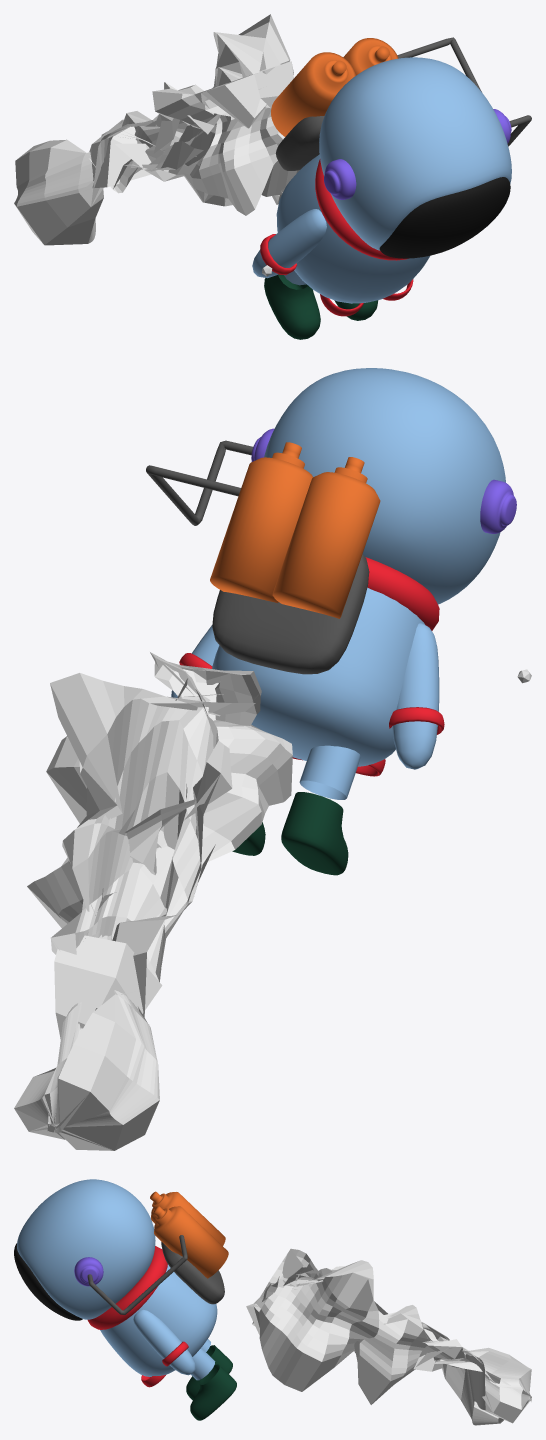
File: AstroBoy-SmokeTrail4.glb
3 renders of one model, top to bottom at view 1: azimuth 30°, elevation 25°; view 2: azimuth 150°, elevation 25°; view 3: azimuth 270°, elevation 25°, orthographic. The views are drawn at different scales.
Visible parts, largest first — view 1: Cube.009, Cube, Cube.002, Cube.001, Cylinder, Cube.003, Cube.005, Cube.008, Torus.001, Cylinder.001, NurbsPath, Cube.004 (+1 smaller); view 2: Cube.009, Cube, Cylinder, Cube.002, Cube.008, Cube.005, Cube.003, Cube.007, NurbsPath, Torus.001, Cylinder.001, Cube.006; view 3: Cube.009, Cube, Cube.002, Cylinder, Cube.003, Cube.005, Torus.001, Cube.008, Cube.001, NurbsPath, Cylinder.001, Cube.007.
Boxes of the visible parts, x1,y1,x2,y2 form: Cube.009: (14,14,299,245); Cube: (319,57,511,250); Cube.002: (276,154,429,303); Cube.001: (379,177,510,258); Cylinder: (271,38,398,136); Cube.003: (264,274,378,339); Cube.005: (252,209,326,278); Cube.008: (275,116,324,170); Torus.001: (315,159,407,260); Cylinder.001: (324,109,511,199); NurbsPath: (397,37,531,146); Cube.004: (320,279,413,316); Cube.009: (14,652,292,1150); Cube: (264,368,505,604); Cylinder: (210,442,380,618); Cube.002: (212,587,424,766); Cube.008: (212,554,369,674); Cube.005: (171,623,439,769); Cube.003: (232,792,348,875); Cube.007: (299,745,360,799); NurbsPath: (146,440,253,525); Torus.001: (365,557,439,630); Cylinder.001: (251,428,516,533); Cube.006: (179,653,444,734); Cube.009: (246,1248,531,1425); Cube: (17,1179,155,1319); Cube.002: (100,1264,217,1376); Cylinder: (150,1191,228,1278); Cube.003: (186,1345,236,1420); Cube.005: (133,1309,195,1375); Torus.001: (87,1246,167,1329); Cube.008: (161,1242,224,1304); Cube.001: (14,1243,82,1320); NurbsPath: (87,1235,187,1314); Cylinder.001: (74,1257,103,1286); Cube.007: (191,1339,215,1380).
Bounding box in the file's own units: 1.51 × 2.06 × 3.77.
